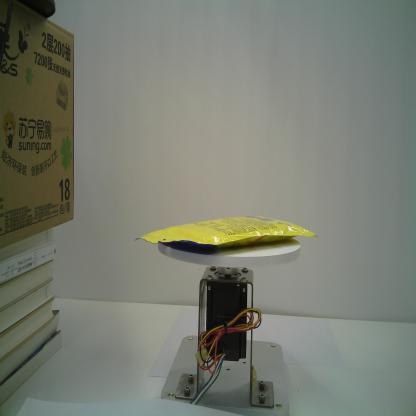Dried Fruit: (134, 212, 317, 255)
